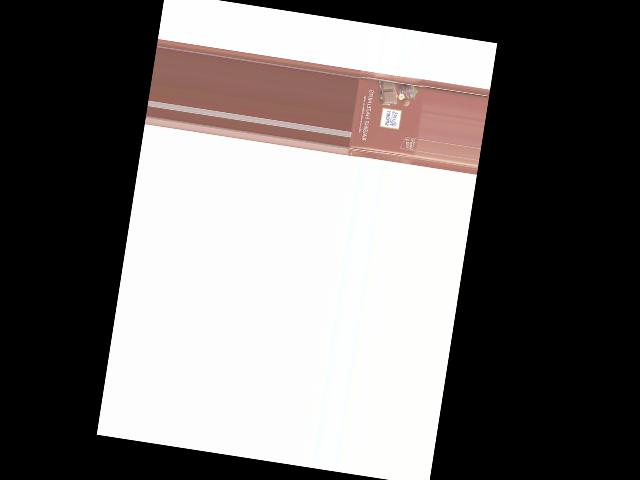chocolate: (346, 68, 426, 165)
